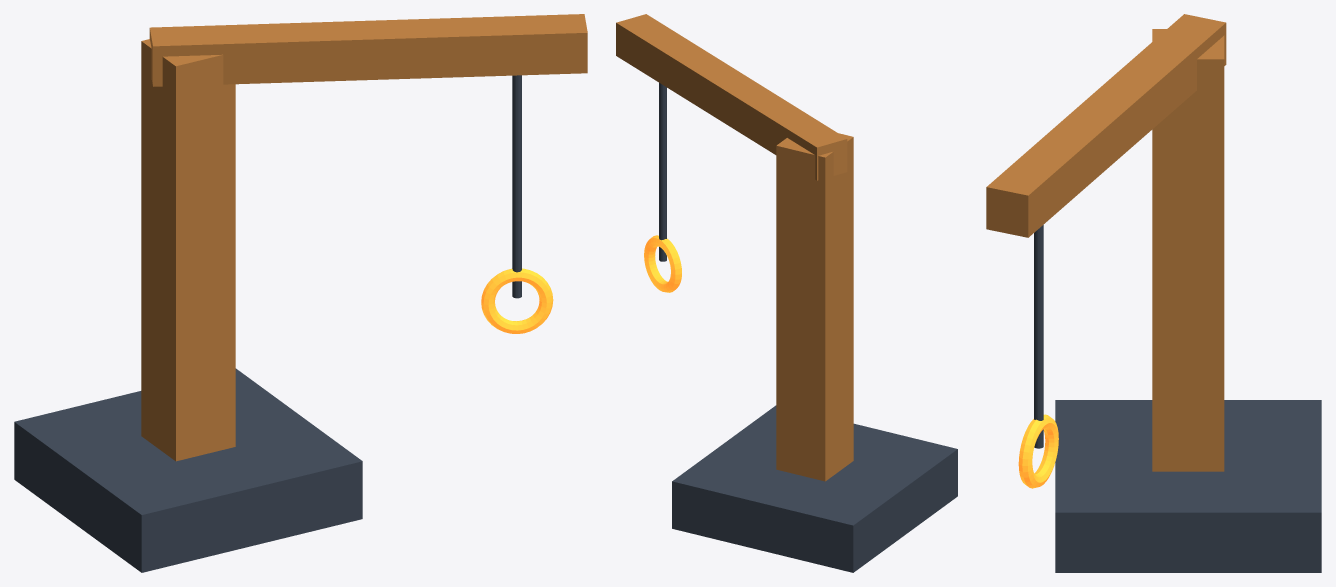
Rendered from 01_hangar_crane.glb.
3 renders of one model, left to right at view 1: azimuth 30°, elevation 25°; view 2: azimuth 150°, elevation 25°; view 3: azimuth 270°, elevation 25°, orthographic. The views are drawn at different scales.
Parts seen in each view (by area): view 1: crane_base_nocol, crane_tower_nocol, crane_beam_nocol, crane_hook_nocol, crane_cable_nocol; view 2: crane_base_nocol, crane_tower_nocol, crane_beam_nocol, crane_cable_nocol, crane_hook_nocol; view 3: crane_base_nocol, crane_tower_nocol, crane_beam_nocol, crane_cable_nocol, crane_hook_nocol.
Part boxes in pixels (x1,y1,x2,y2): crane_base_nocol: (14, 368, 362, 572); crane_tower_nocol: (141, 39, 235, 461); crane_beam_nocol: (149, 14, 587, 86); crane_hook_nocol: (481, 268, 553, 333); crane_cable_nocol: (512, 75, 521, 298); crane_base_nocol: (672, 405, 957, 572); crane_tower_nocol: (776, 133, 853, 481); crane_beam_nocol: (616, 14, 847, 180); crane_cable_nocol: (659, 83, 666, 261); crane_hook_nocol: (644, 235, 681, 292); crane_base_nocol: (1055, 400, 1321, 572); crane_tower_nocol: (1152, 29, 1224, 471); crane_beam_nocol: (986, 14, 1226, 237); crane_cable_nocol: (1034, 225, 1043, 448); crane_hook_nocol: (1018, 414, 1058, 488).
Size of the model in its own units: 9.34 by 9.62 by 6.04.
